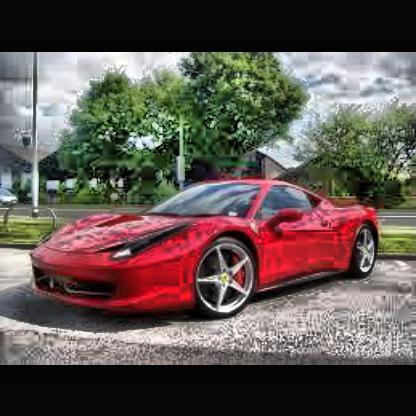Ferrari 458 Italia Coupe 2012: (32, 182, 383, 321)
